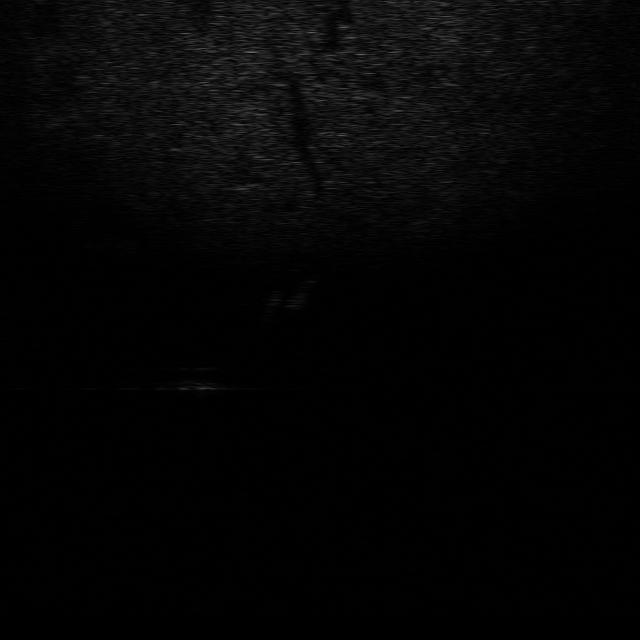ball: (161, 362, 225, 396)
human body: (258, 272, 314, 323)
